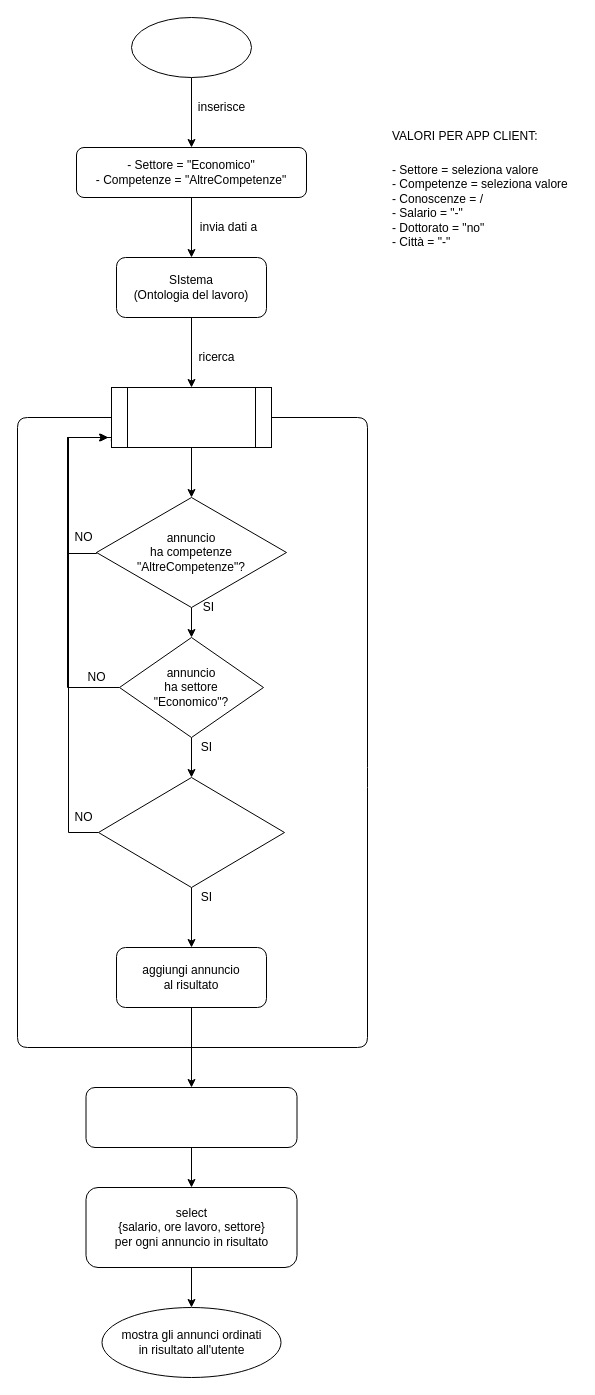
This 595x1395 diagram has some shape labels left out. Each missing label, with the centre of its shape:
annuncio ha (5 < ore lavoro < 9) ?: (x=191, y=832)
ordina annunci in risultato per salario decrescente: (x=191, y=1117)
per ogni annuncio nell'ontologia: (x=191, y=417)
Utente (Candidato): (x=191, y=47)
